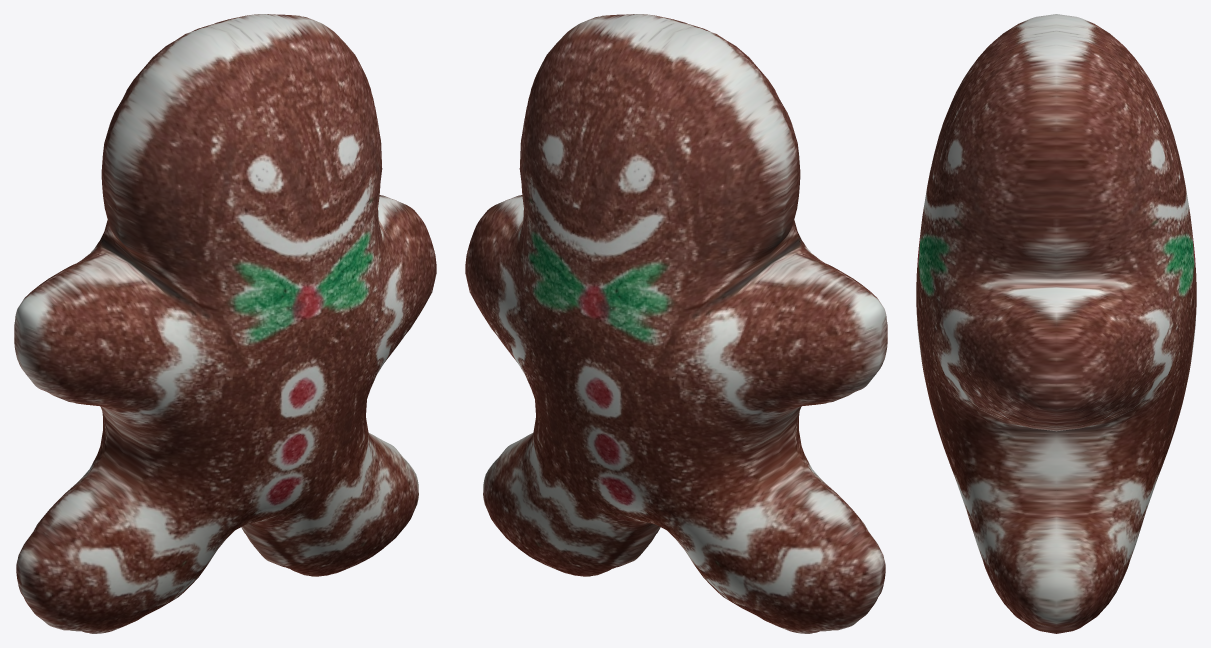
File: 진저맨.glb
3 views of the same model, side by side, from view 1: azimuth 30°, elevation 25°; view 2: azimuth 150°, elevation 25°; view 3: azimuth 270°, elevation 25° (orthographic).
Bounding box in the file's own units: 3.74 × 4.98 × 2.26.
1 material, 1 textured.
